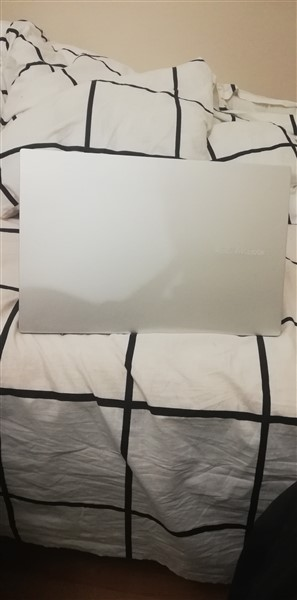laptop: (19, 142, 285, 342)
